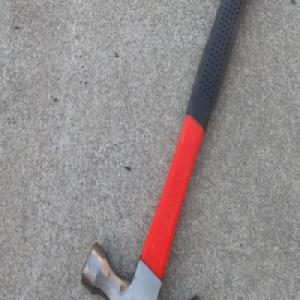Hammer: (79, 0, 250, 300)
